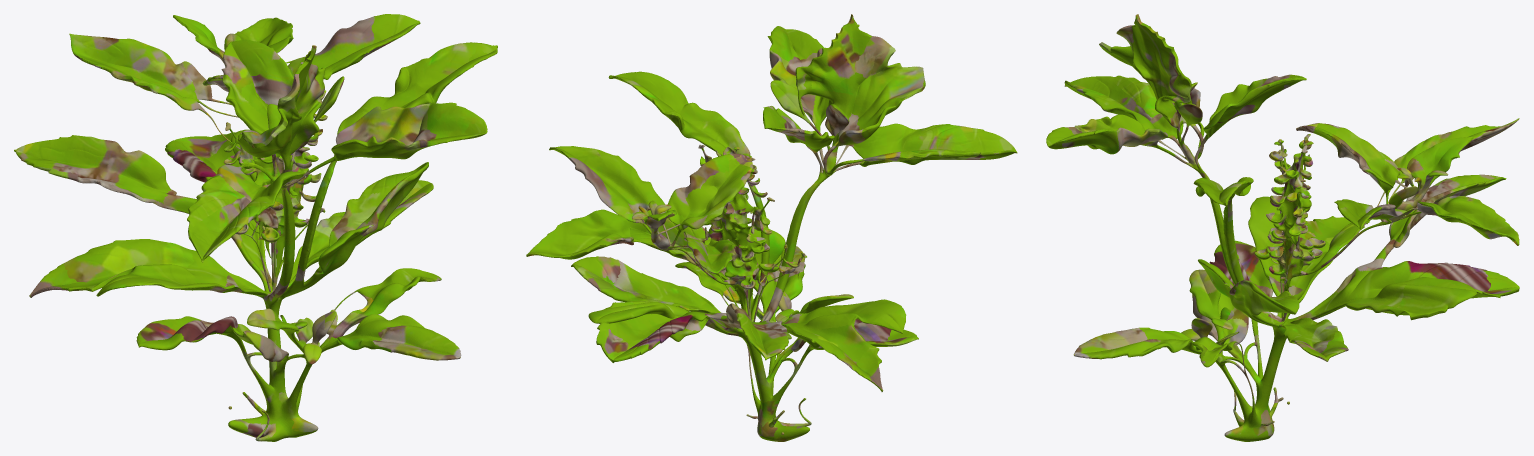
The model's file is tulsi.glb.
3 views of the same model, side by side, from view 1: azimuth 30°, elevation 25°; view 2: azimuth 150°, elevation 25°; view 3: azimuth 270°, elevation 25° (orthographic). The views are drawn at different scales.
Visible parts, largest first — view 1: tripo_node_102dd69d-f0ba-4bc2-86cc-4c01a0423254; view 2: tripo_node_102dd69d-f0ba-4bc2-86cc-4c01a0423254; view 3: tripo_node_102dd69d-f0ba-4bc2-86cc-4c01a0423254.
Boxes of the visible parts, box(x1,y1,x2,y2) form: tripo_node_102dd69d-f0ba-4bc2-86cc-4c01a0423254: box(14, 14, 497, 441); tripo_node_102dd69d-f0ba-4bc2-86cc-4c01a0423254: box(526, 14, 1017, 441); tripo_node_102dd69d-f0ba-4bc2-86cc-4c01a0423254: box(1046, 14, 1519, 441).
Size of the model in its own units: 0.8826 by 0.9529 by 1.
1 material, 1 textured.
